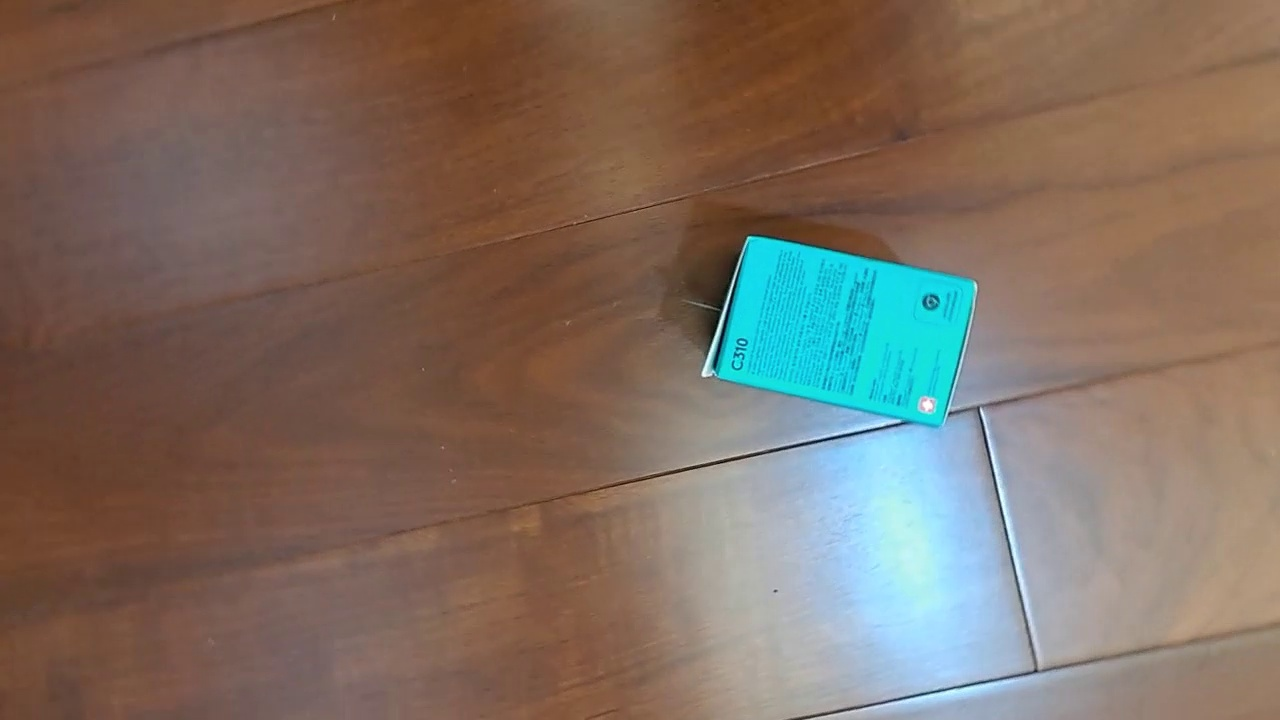webcam: (700, 235, 979, 428)
